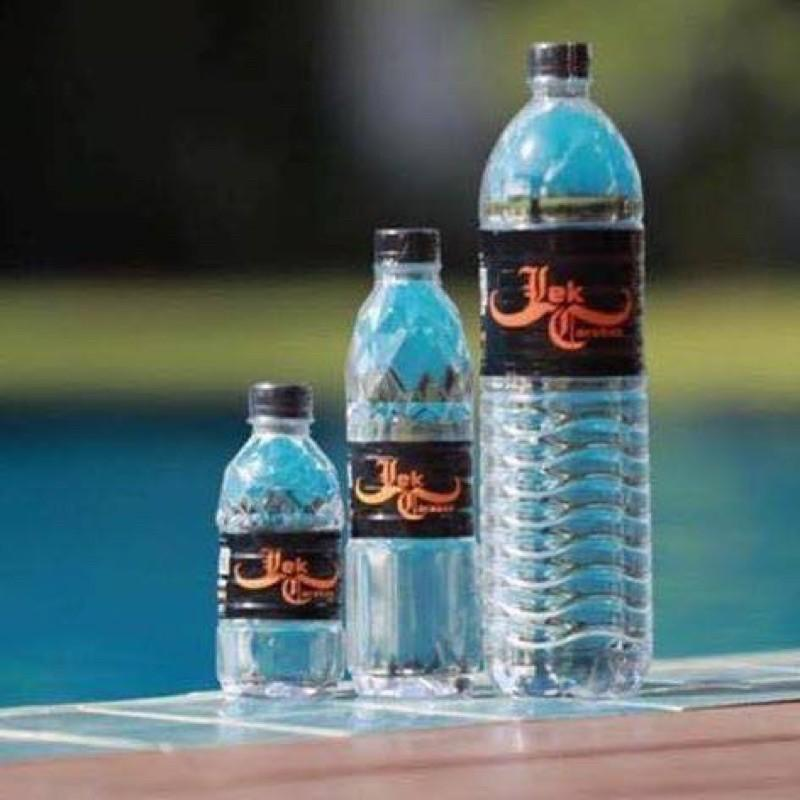bottle: (458, 27, 663, 713), (332, 212, 496, 709), (207, 370, 354, 725)
